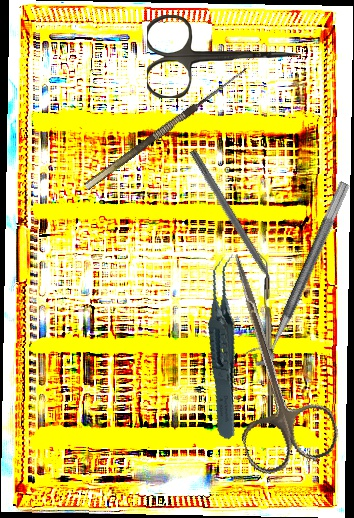Chopper: (257, 252, 274, 419)
Fixation Ring: (241, 173, 352, 372)
Hook Surgical: (77, 57, 250, 191), (187, 148, 283, 298)
Iris Scissors: (186, 241, 345, 479), (147, 15, 301, 98)
Tissue Forceps: (179, 251, 273, 441)
